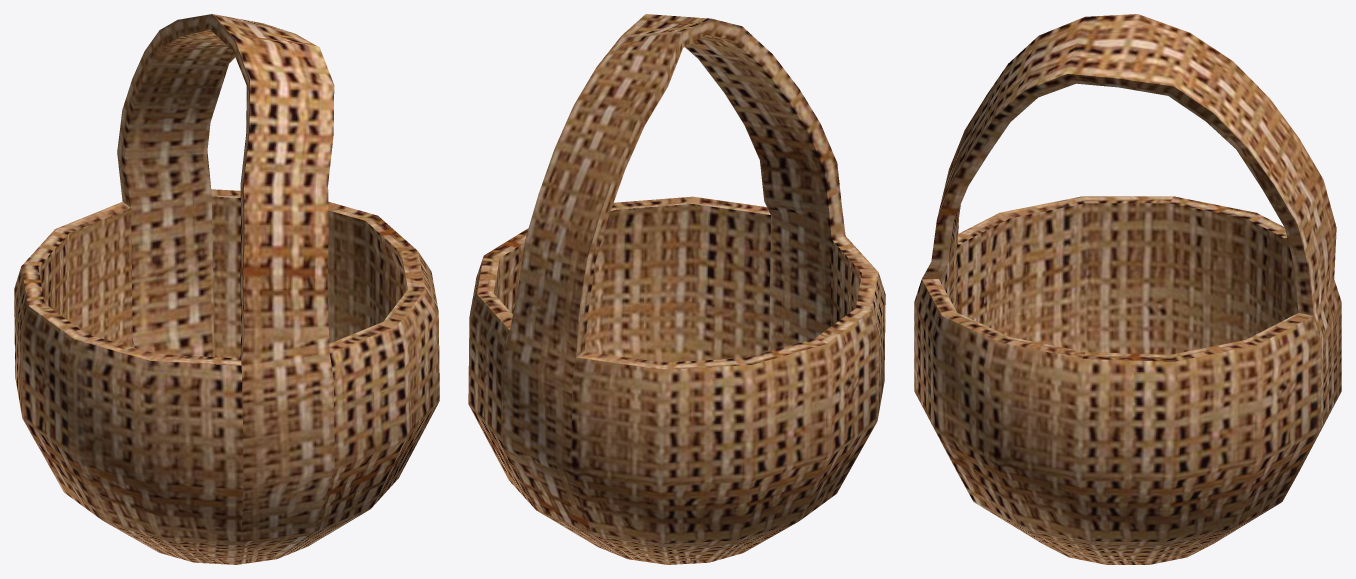
The model's file is Basket.FBX.
3 renders of one model, left to right at view 1: azimuth 30°, elevation 25°; view 2: azimuth 150°, elevation 25°; view 3: azimuth 270°, elevation 25°, orthographic. The views are drawn at different scales.
Visible parts, largest first — view 1: Sphere001; view 2: Sphere001; view 3: Sphere001.
Boxes of the visible parts, bbox=[...] form: Sphere001: bbox=[14, 14, 439, 564]; Sphere001: bbox=[468, 14, 885, 564]; Sphere001: bbox=[914, 14, 1341, 564].
Size of the model in its own units: 0.5011 by 0.6749 by 0.5125.
